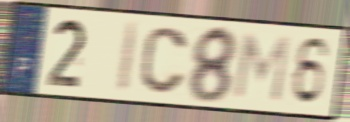2: (46, 17, 87, 90)
6: (289, 35, 330, 109)
8: (188, 23, 240, 105)
C: (137, 24, 190, 97)
I: (114, 20, 143, 96)
M: (230, 31, 292, 105)
